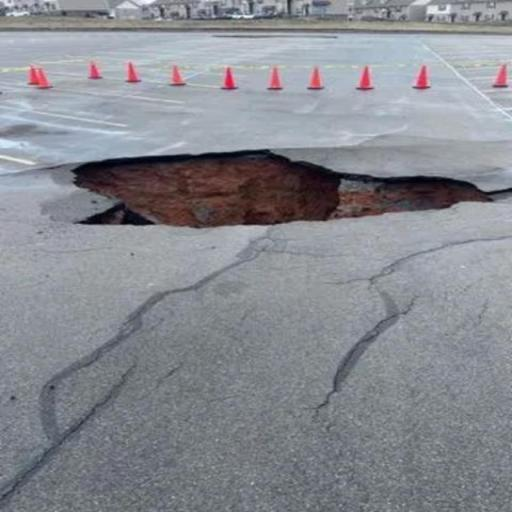Concentric_Crack: (72, 150, 508, 226)
